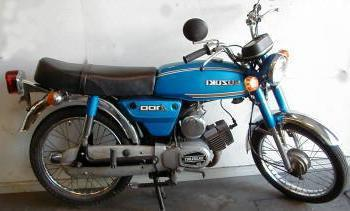Motorcycle: (0, 0, 349, 209)
